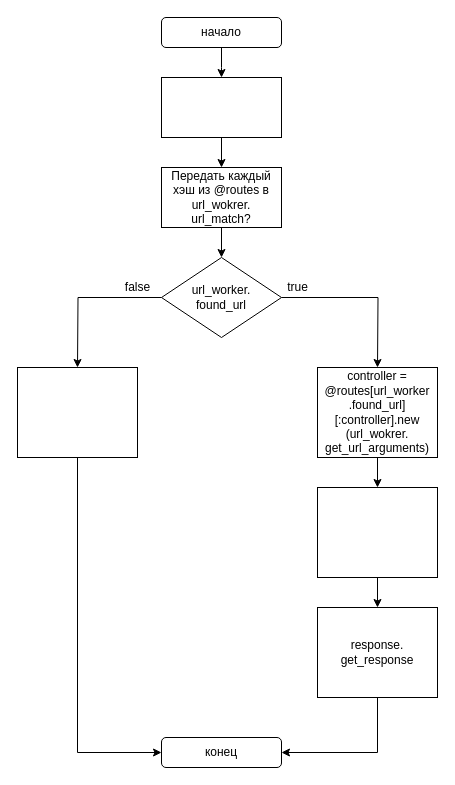
Image size: 455x785. Some labels were removed from this diagram. The shapes that lost their labels are listed below. From the top down, each one's centre as x and y in pixels, then its label:
(221,107): url_worker = URLWorker.new (route, method)
(77,412): Response.new ("Not found",404) .get_response
(377,532): response = controller.send( @routes[url_worker. found_url] [:method]
